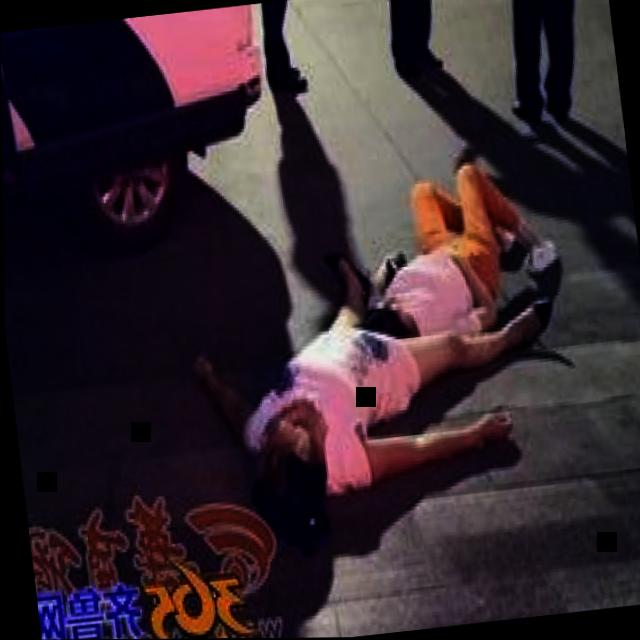Fall-Detected: (334, 111, 573, 370)
